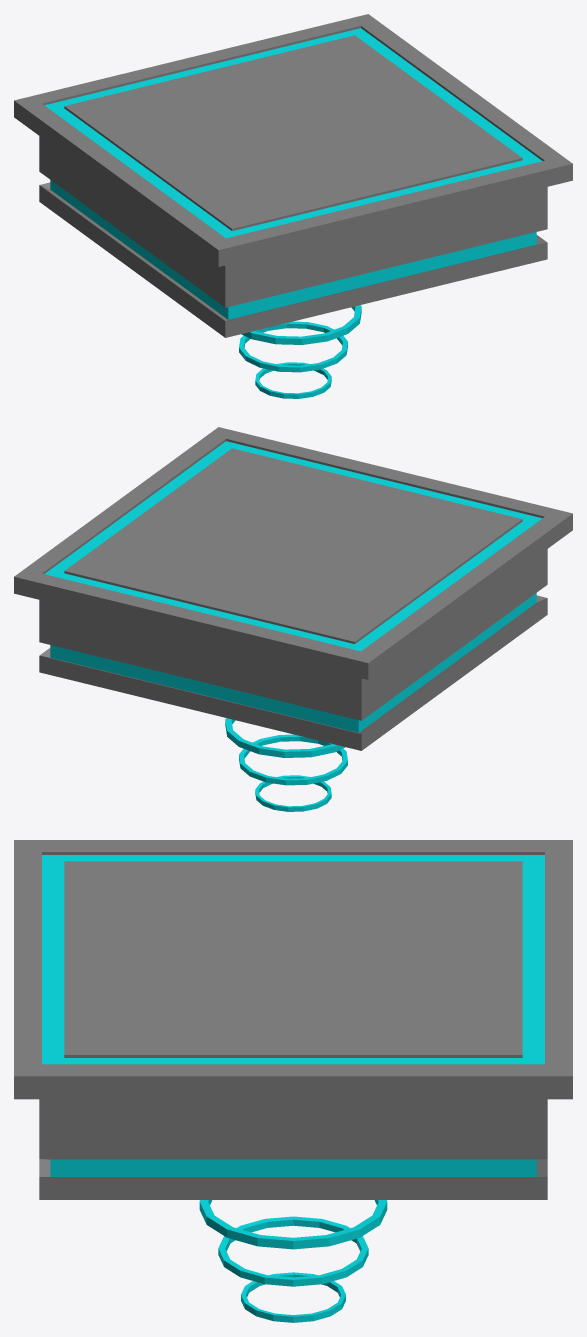
File: Plataform.fbx
3 renders of one model, top to bottom at view 1: azimuth 30°, elevation 25°; view 2: azimuth 150°, elevation 25°; view 3: azimuth 270°, elevation 25°, orthographic. The views are drawn at different scales.
Parts seen in each view (by area): view 1: Ramp, Ramp_Ring_2, Ramp_Ring_1, Ramp_Ring_3; view 2: Ramp, Ramp_Ring_2, Ramp_Ring_1, Ramp_Ring_3; view 3: Ramp, Ramp_Ring_2, Ramp_Ring_1, Ramp_Ring_3.
Part boxes in pixels (<box>): Ramp: <box>14,14,572,337</box>; Ramp_Ring_2: <box>239,321,347,372</box>; Ramp_Ring_1: <box>241,305,361,344</box>; Ramp_Ring_3: <box>255,362,331,398</box>; Ramp: <box>14,427,572,750</box>; Ramp_Ring_2: <box>239,734,347,785</box>; Ramp_Ring_1: <box>225,718,345,757</box>; Ramp_Ring_3: <box>255,775,331,811</box>; Ramp: <box>14,840,572,1199</box>; Ramp_Ring_2: <box>218,1216,368,1286</box>; Ramp_Ring_1: <box>199,1200,387,1249</box>; Ramp_Ring_3: <box>241,1272,345,1322</box>.
Bounding box in the file's own units: 220 × 149 × 220.
